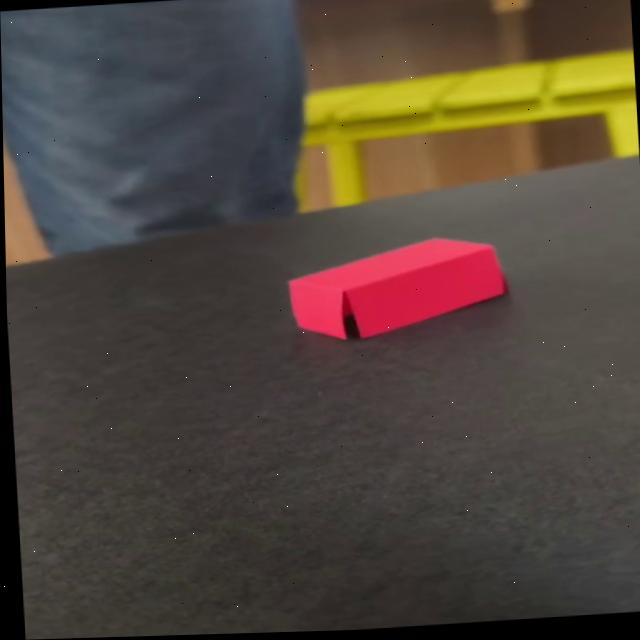red block: (284, 231, 509, 344)
